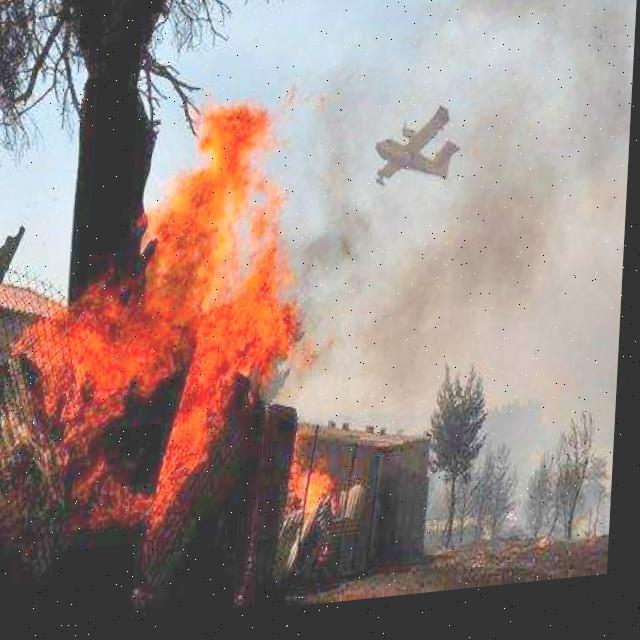Fire: (24, 99, 308, 552), (292, 467, 343, 542)
